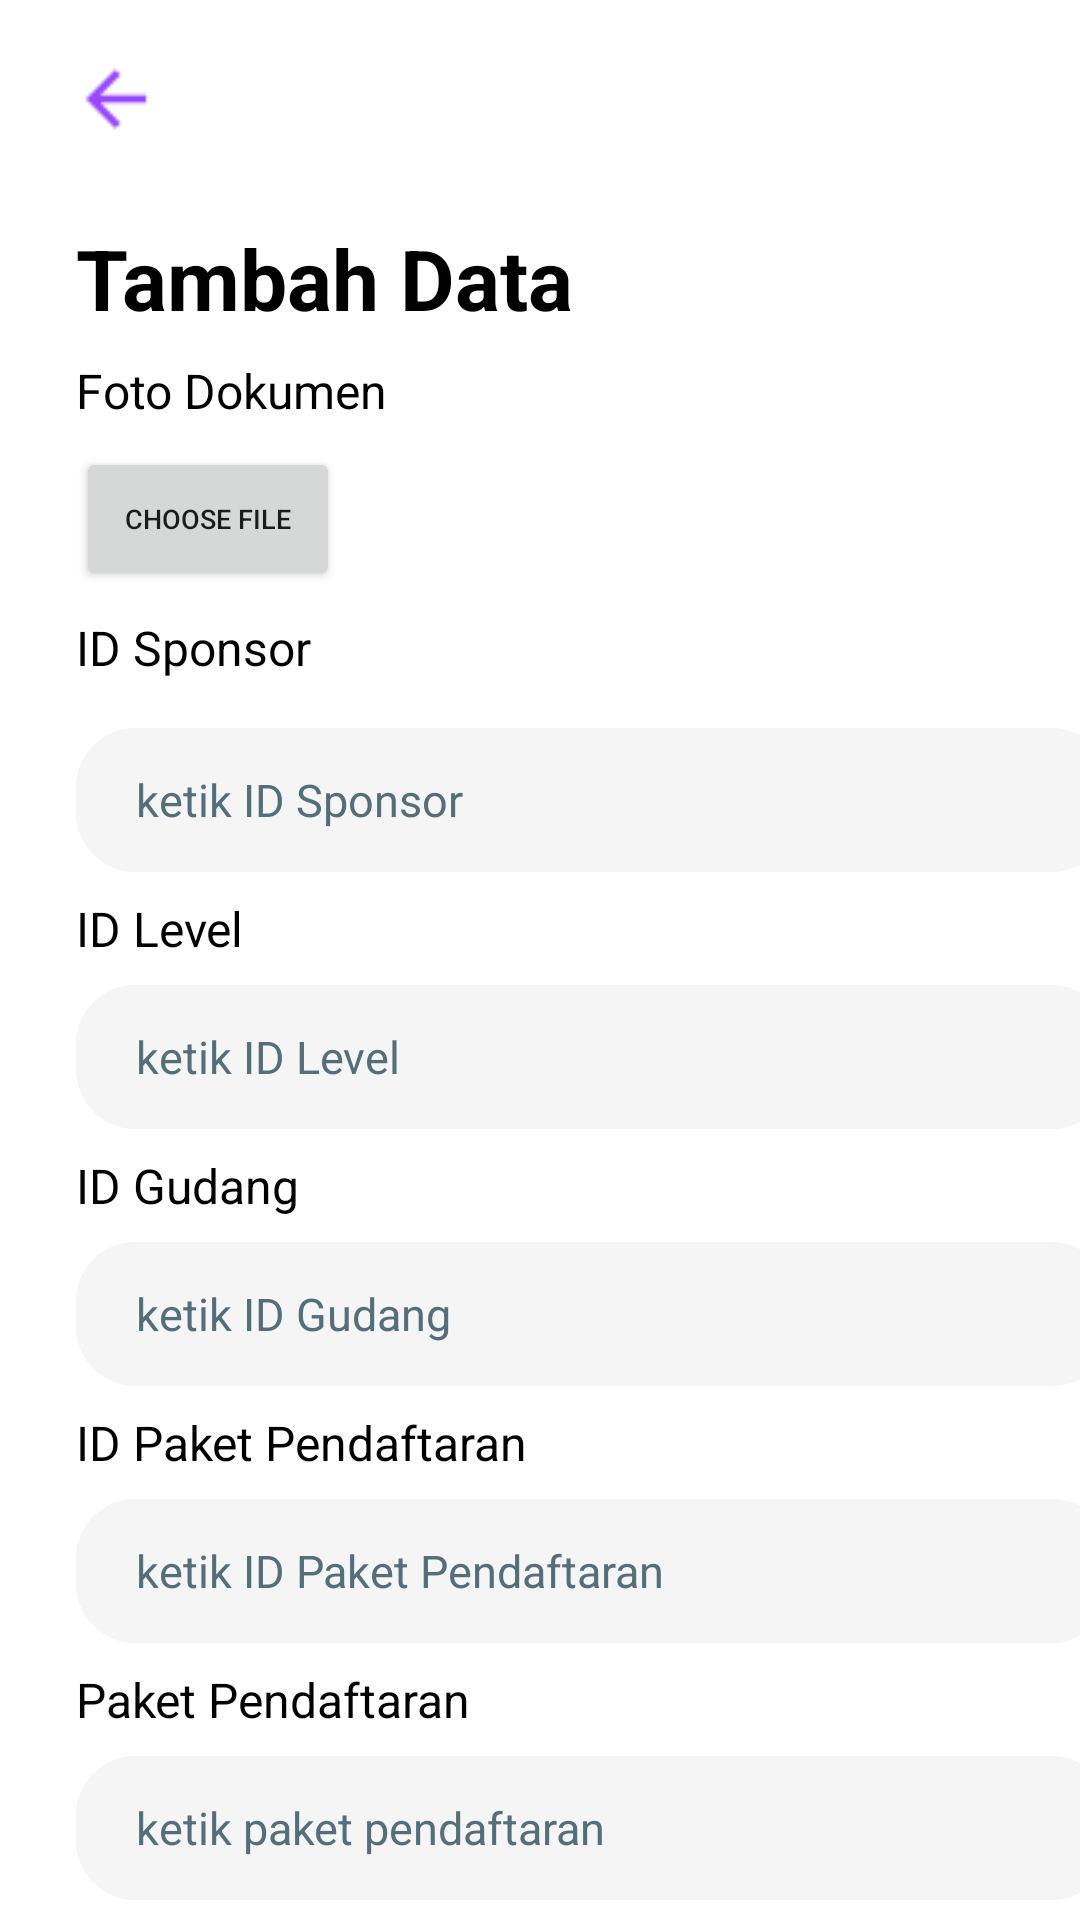

Named icons in this screenshot (1080px×1920px) and their centers, (x=x, y=y):
arrow left: (x=116, y=99)
